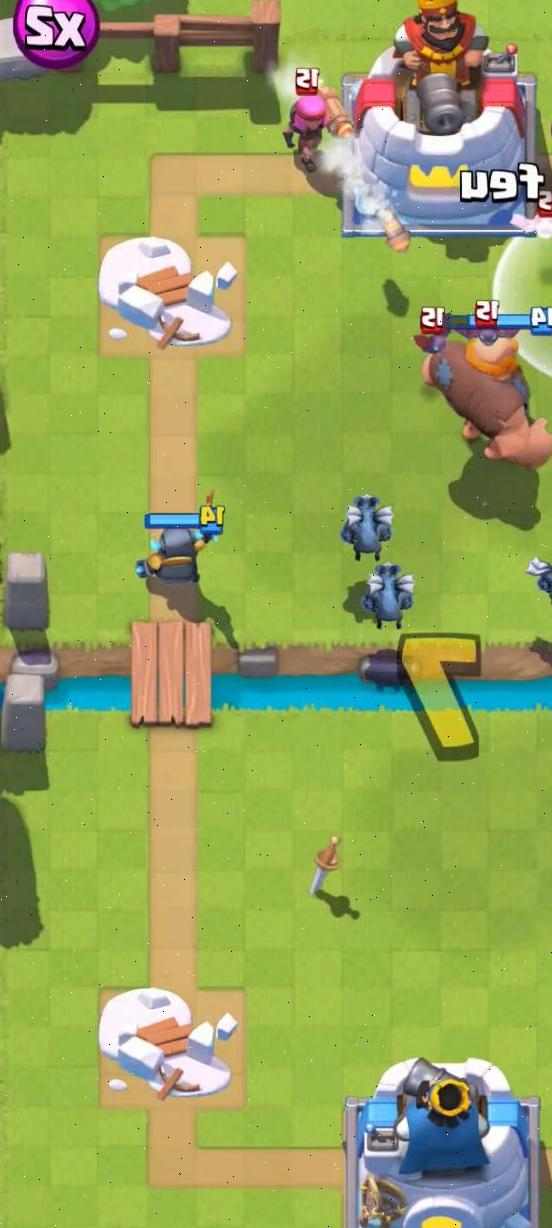enemy_bats: (410, 308, 454, 356)
enemy_firecracker: (277, 70, 346, 166)
player_giant: (413, 310, 552, 471)
player_mini_pekka: (125, 489, 233, 584)
player_minions: (350, 555, 419, 633), (332, 490, 397, 561), (518, 534, 552, 618)
